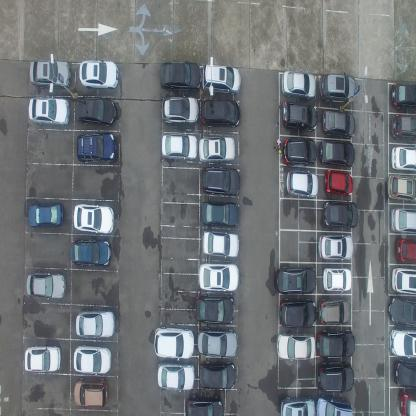car: (72, 202, 116, 236), (154, 324, 194, 360), (274, 265, 317, 297), (27, 59, 72, 89), (75, 95, 117, 127), (76, 131, 116, 164), (28, 96, 70, 127), (159, 62, 202, 92), (202, 62, 241, 95), (200, 97, 241, 128), (71, 237, 112, 268), (75, 308, 117, 338), (200, 166, 240, 197), (79, 59, 119, 90), (198, 261, 239, 291), (194, 294, 235, 324), (316, 360, 354, 392), (197, 327, 237, 357), (72, 344, 112, 374), (282, 99, 318, 132), (24, 272, 66, 300), (280, 69, 316, 101), (72, 378, 109, 409), (24, 344, 61, 375), (279, 297, 316, 328), (161, 96, 199, 126), (317, 329, 355, 359), (156, 362, 195, 391), (202, 228, 239, 258), (161, 132, 198, 162), (198, 135, 236, 164), (27, 201, 65, 230), (277, 331, 315, 360), (320, 72, 356, 102), (282, 136, 318, 166), (199, 361, 236, 390), (201, 200, 239, 228), (320, 138, 355, 168), (322, 107, 355, 138), (323, 200, 358, 229), (317, 233, 354, 260), (286, 168, 318, 199), (387, 295, 416, 328), (388, 327, 416, 360), (314, 393, 354, 415), (324, 168, 353, 198), (318, 299, 352, 324), (322, 265, 351, 294), (386, 174, 416, 202), (185, 394, 223, 416), (278, 394, 316, 416), (389, 206, 416, 234), (390, 266, 416, 294), (392, 360, 416, 390), (390, 80, 415, 108), (390, 142, 415, 170), (390, 113, 416, 139), (395, 235, 416, 263), (398, 389, 416, 415)
